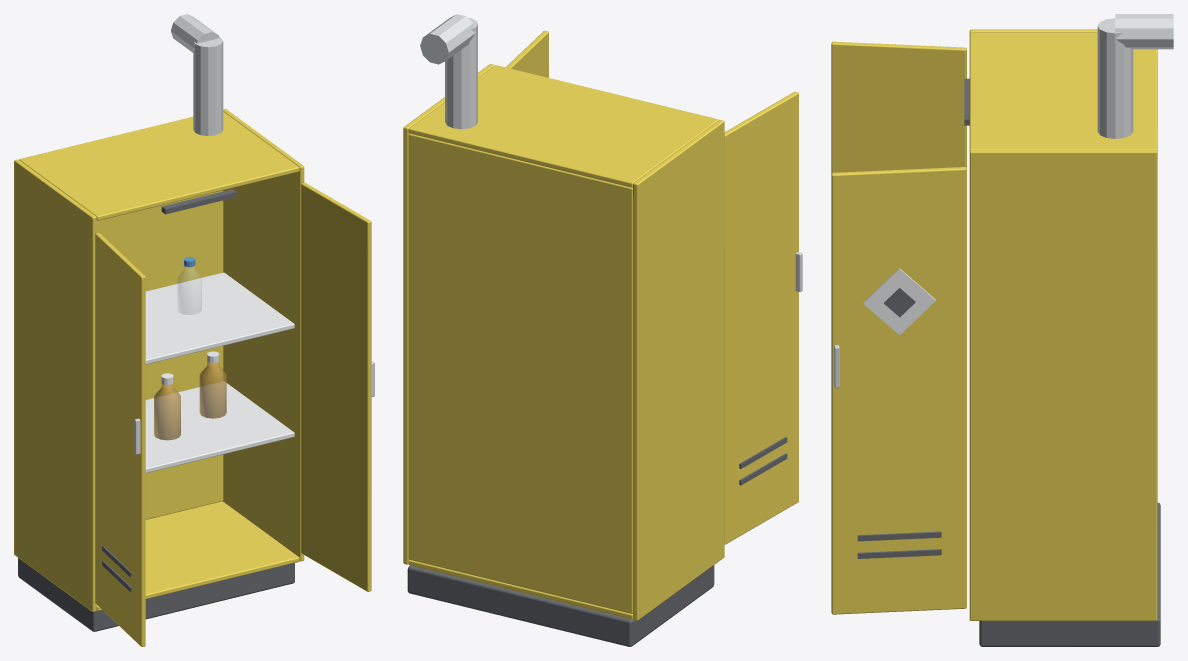
Rendered from chemical-store-cabinet-open.glb.
3 views of the same model, side by side, from view 1: azimuth 30°, elevation 25°; view 2: azimuth 150°, elevation 25°; view 3: azimuth 270°, elevation 25° (orthographic). The views are drawn at different scales.
Visible parts, largest first — view 1: chemical-store-cabinet-open, door-chem-right, door-chem-left; view 2: chemical-store-cabinet-open, door-chem-left (×2), door-chem-right; view 3: chemical-store-cabinet-open, door-chem-right (×3), door-chem-left.
Boxes of the visible parts, box(x1,y1,x2,y2) form: chemical-store-cabinet-open: box(14, 14, 304, 631); door-chem-right: box(301, 182, 371, 591); door-chem-left: box(95, 233, 145, 646); chemical-store-cabinet-open: box(403, 14, 724, 646); door-chem-left (×2): box(724, 91, 798, 544); door-chem-right: box(506, 30, 548, 77); chemical-store-cabinet-open: box(964, 14, 1173, 646); door-chem-right (×3): box(831, 167, 966, 614); door-chem-left: box(831, 41, 966, 173).
Size of the model in its own units: 1.01 by 2.09 by 1.06.
